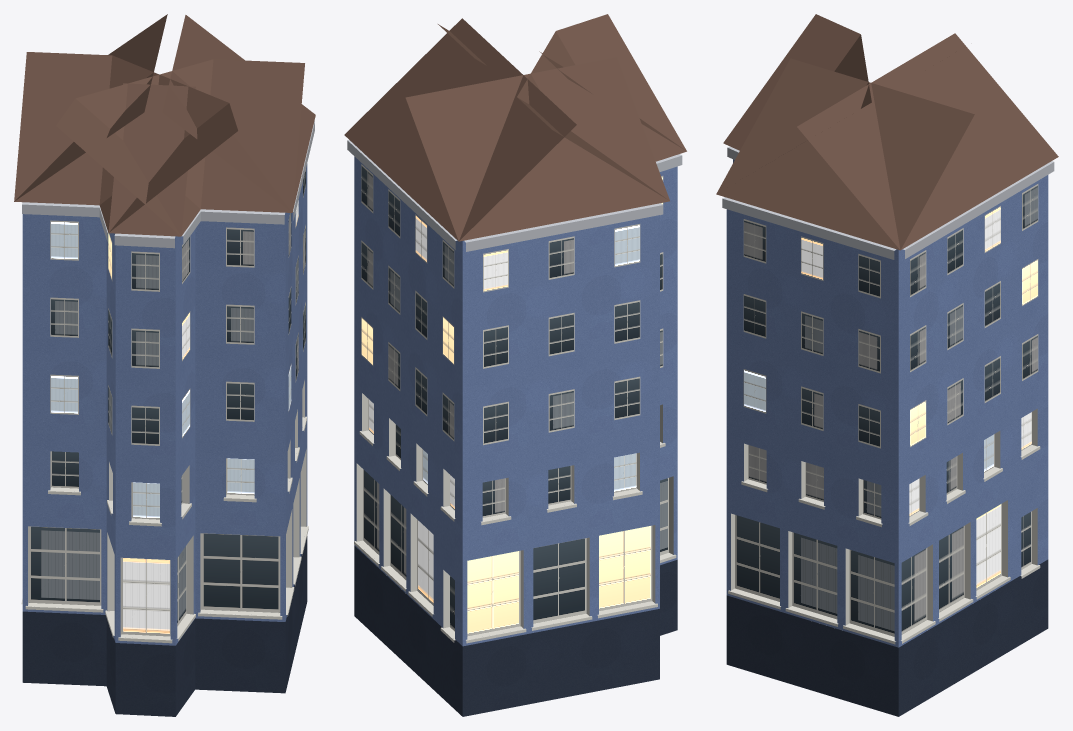
Rendered from langB_zw37.glb.
3 views of the same model, side by side, from view 1: azimuth 30°, elevation 25°; view 2: azimuth 150°, elevation 25°; view 3: azimuth 270°, elevation 25° (orthographic). The views are drawn at different scales.
Parts seen in each view (by area): view 1: langB_zw37; view 2: langB_zw37; view 3: langB_zw37.
Boxes of the visible parts, x1,y1,x2,y2 form: langB_zw37: (14, 14, 315, 716); langB_zw37: (344, 14, 686, 716); langB_zw37: (716, 14, 1058, 716).
Bounding box in the file's own units: 13.91 × 24.39 × 13.45.
3 materials, 3 textured.
